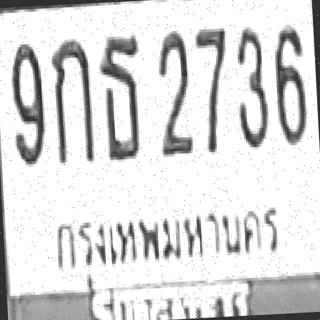A01: (49, 37, 95, 164)
A24: (96, 33, 144, 160)
N02: (153, 28, 193, 157)
N03: (232, 24, 270, 150)
N06: (272, 23, 308, 147)
N07: (193, 27, 233, 154), (194, 26, 231, 142)
N09: (8, 41, 46, 165)
P04: (50, 197, 286, 289)
